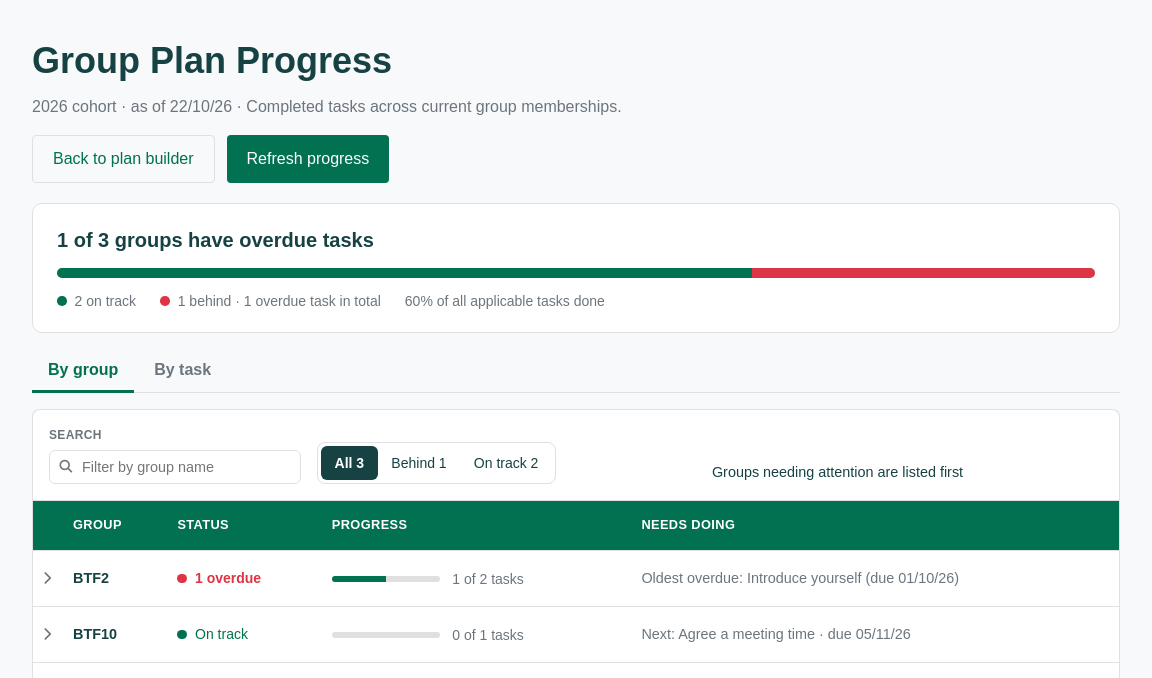
Test: admin plan progress › opens a group to show its tasks by stage, with overdue, done and 0/0 states
The width and height of the screenshot is (1152, 678).
What coordinates should you click on to do the following:
click the 1st button with class "data-table-expand-btn"
I would click on:
 (47, 579)
Its box is x1=33 y1=565 x2=61 y2=593.
(page scrolled)
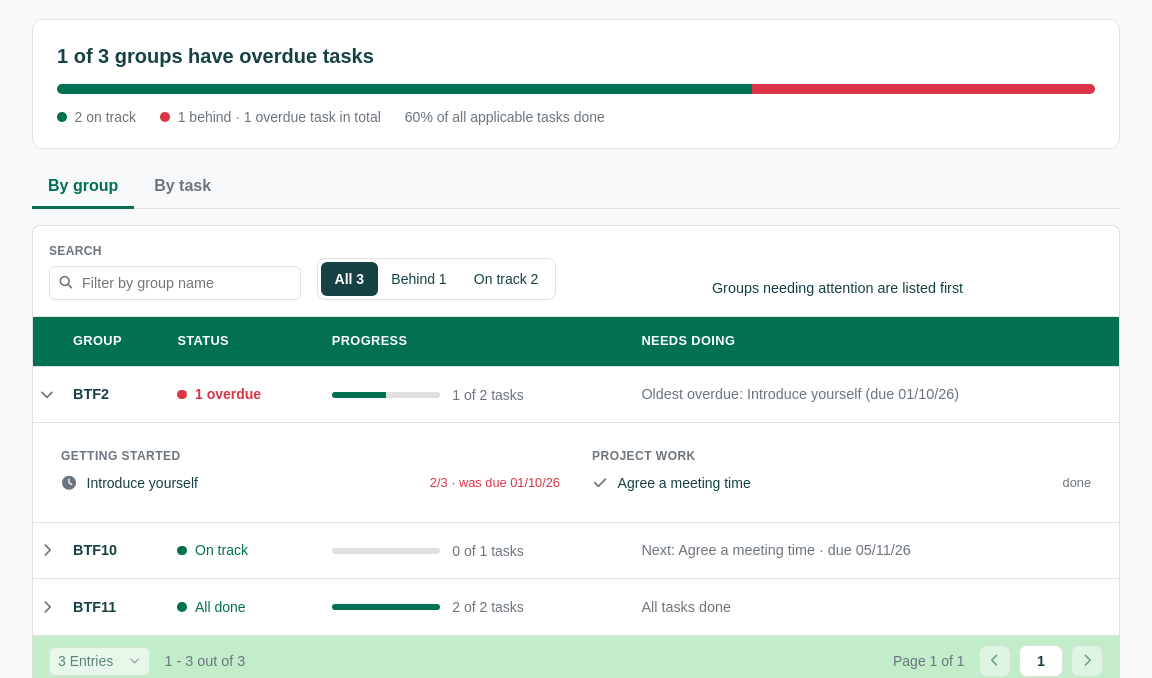
Expected: the row with class "data-table-detail-row" shows "Getting started", x1=61 y1=449 x2=181 y2=463
Expected: the row with class "data-table-detail-row" shows "Introduce yourself", x1=87 y1=475 x2=198 y2=491
Expected: the row with class "data-table-detail-row" shows "2/3 · was due 01/10/26", x1=430 y1=475 x2=560 y2=490
What coordinates should you click on to do the following:
click the 2nd button with class "data-table-expand-btn"
I would click on:
 (47, 551)
Its box is x1=33 y1=537 x2=61 y2=565.
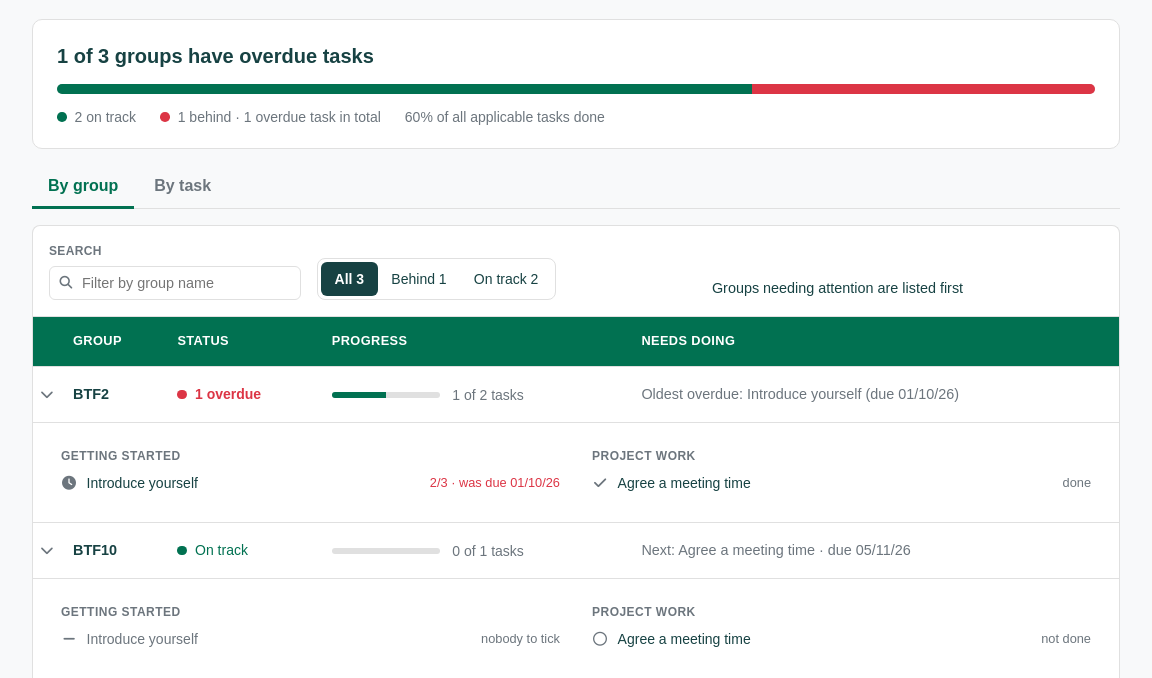
Expected: the row with class "data-table-detail-row" shows "nobody to tick", x1=481 y1=631 x2=560 y2=646
